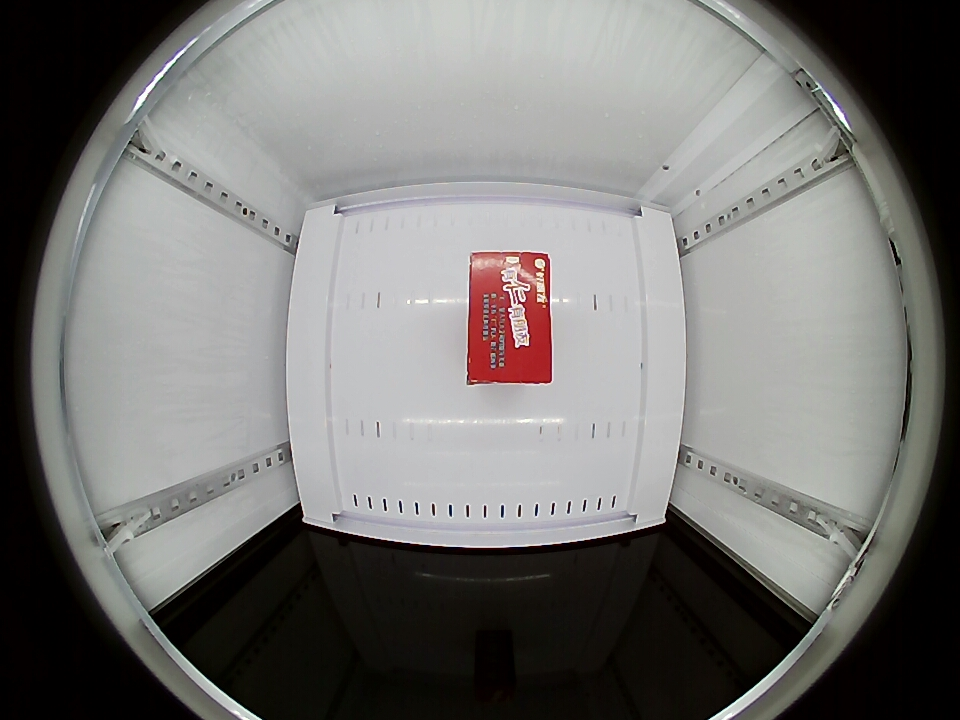haoliyou: (468, 251, 553, 383)
